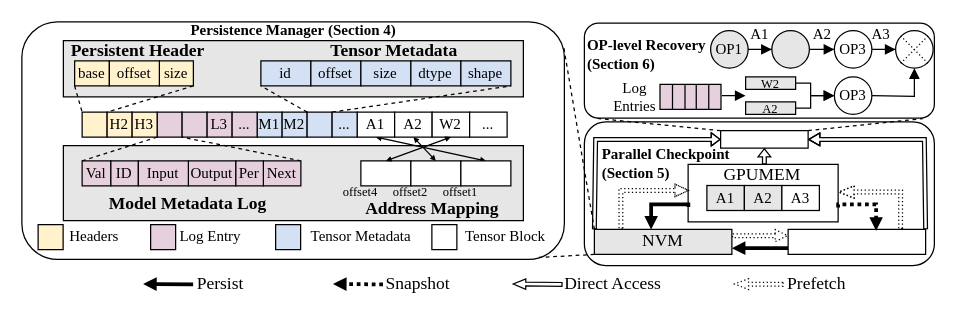
Image size: 956x325. Some labels were removed from this diagram. Here are the shapes that lost their labels. From the top down, the centre of each, then its label:
pixel 790 48: OP2
pixel 913 48: OP4
pixel 94 124: H1
pixel 169 124: L1
pixel 194 124: L2
pixel 319 124: M3
pixel 763 138: GPU
pixel 385 173: size3
pixel 435 173: size2
pixel 485 173: size1
pixel 856 241: DRAM
